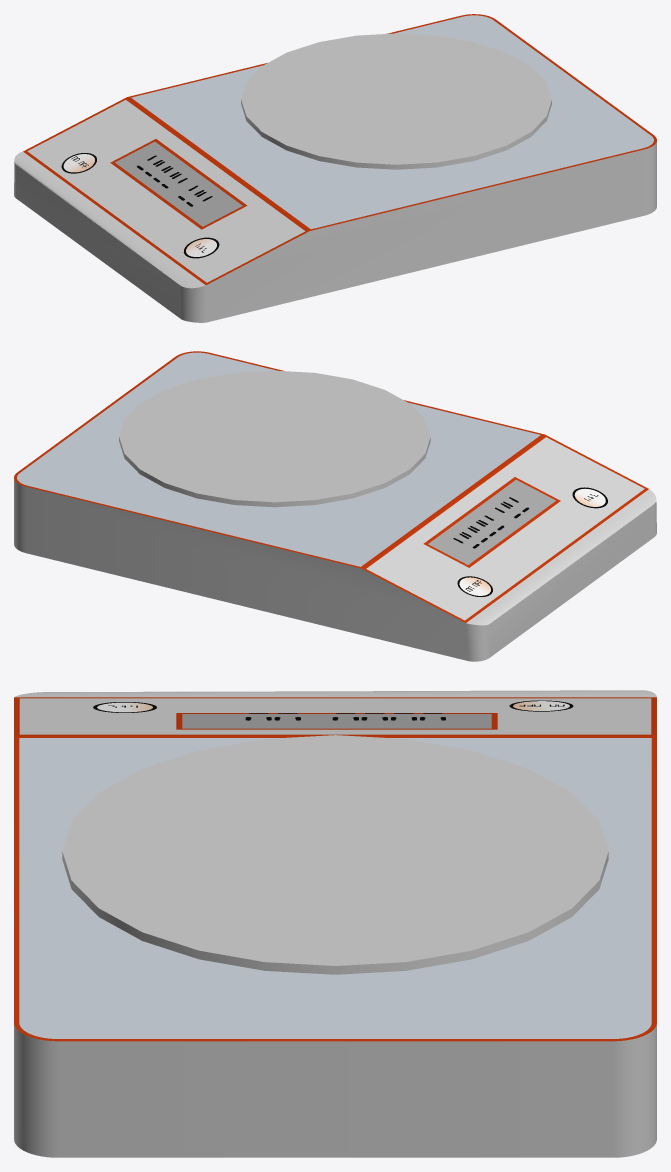
3 views of the same model, one above another, from view 1: azimuth 30°, elevation 25°; view 2: azimuth 150°, elevation 25°; view 3: azimuth 270°, elevation 25° (orthographic). The views are drawn at different scales.
Parts seen in each view (by area): view 1: Mesh90 Model; view 2: Mesh90 Model; view 3: Mesh90 Model.
Part boxes in pixels (x1,y1,x2,y2): Mesh90 Model: (14,14,656,322); Mesh90 Model: (14,351,656,661); Mesh90 Model: (14,690,656,1157).
Bounding box in the file's own units: 11.82 × 2.09 × 7.87.
